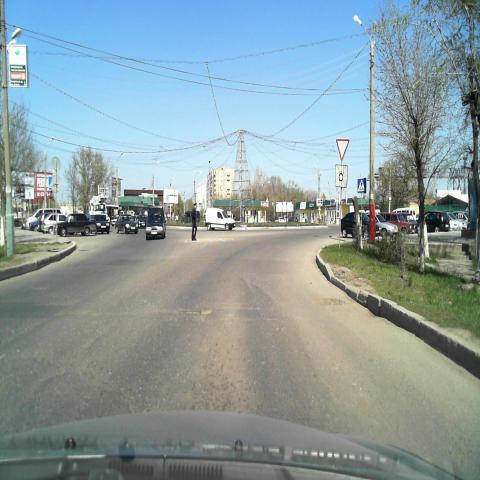8_13_1: (335, 162, 347, 186)
